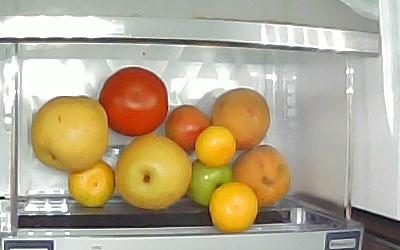peach: (210, 88, 272, 149), (234, 146, 291, 207)
pear: (31, 95, 108, 172), (116, 136, 192, 210)
tangerine: (210, 183, 259, 234), (69, 161, 114, 207), (195, 125, 236, 167)
tomato: (101, 67, 168, 136), (188, 158, 234, 205), (166, 104, 211, 151)
